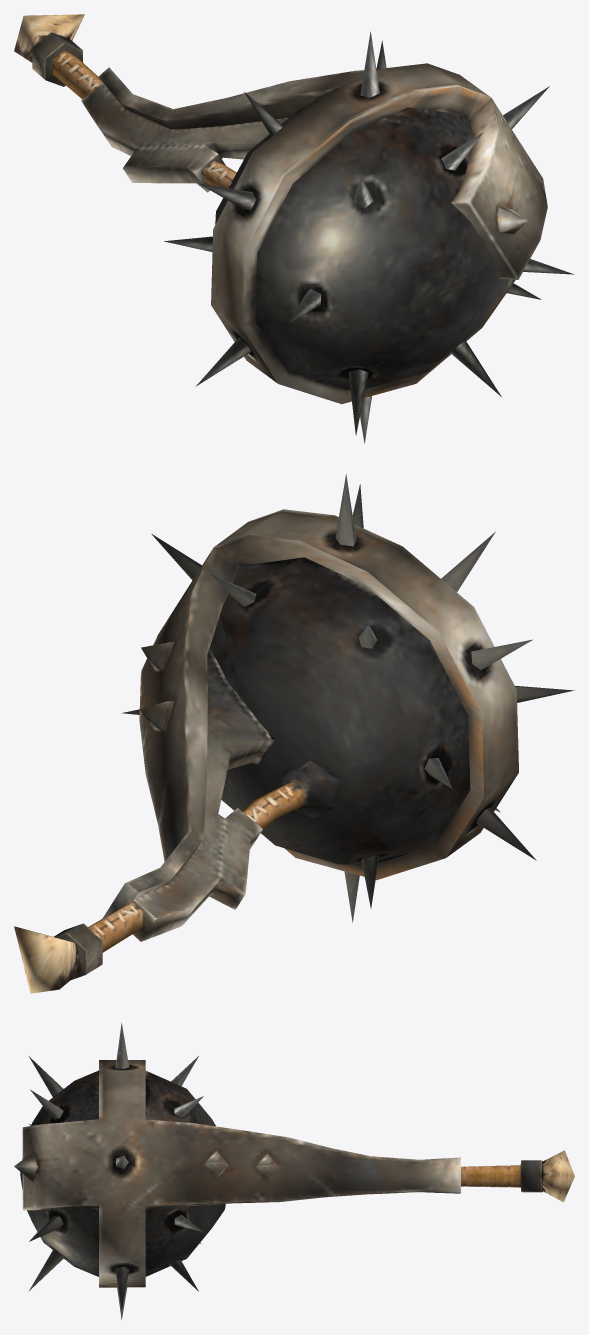
Rendered from we003_amh.OBJ.
3 renders of one model, top to bottom at view 1: azimuth 30°, elevation 25°; view 2: azimuth 150°, elevation 25°; view 3: azimuth 270°, elevation 25°, orthographic. The views are drawn at different scales.
Visible parts, largest first — view 1: mesh_0; view 2: mesh_0; view 3: mesh_0.
Part boxes in pixels (box(x1,y1,x2,y2)): mesh_0: box(14, 14, 574, 443); mesh_0: box(14, 474, 574, 993); mesh_0: box(14, 1023, 574, 1319).
Size of the model in its own units: 93.84 by 104 by 176.
1 material, 1 textured.
